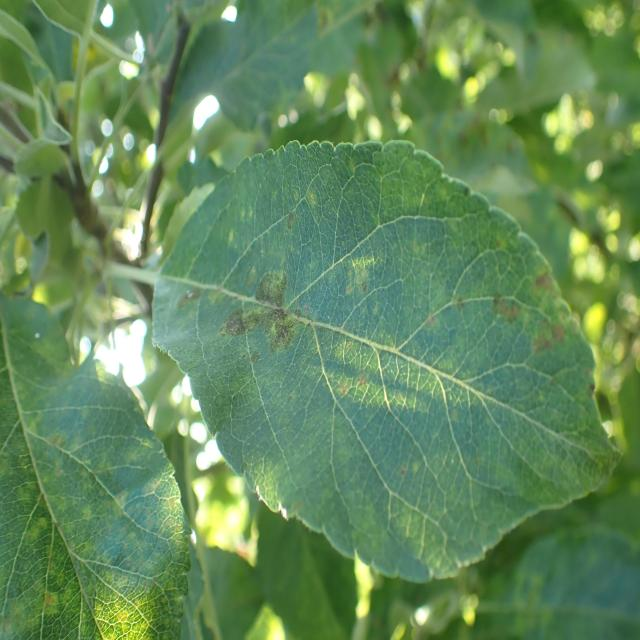scab: (176, 203, 586, 430)
